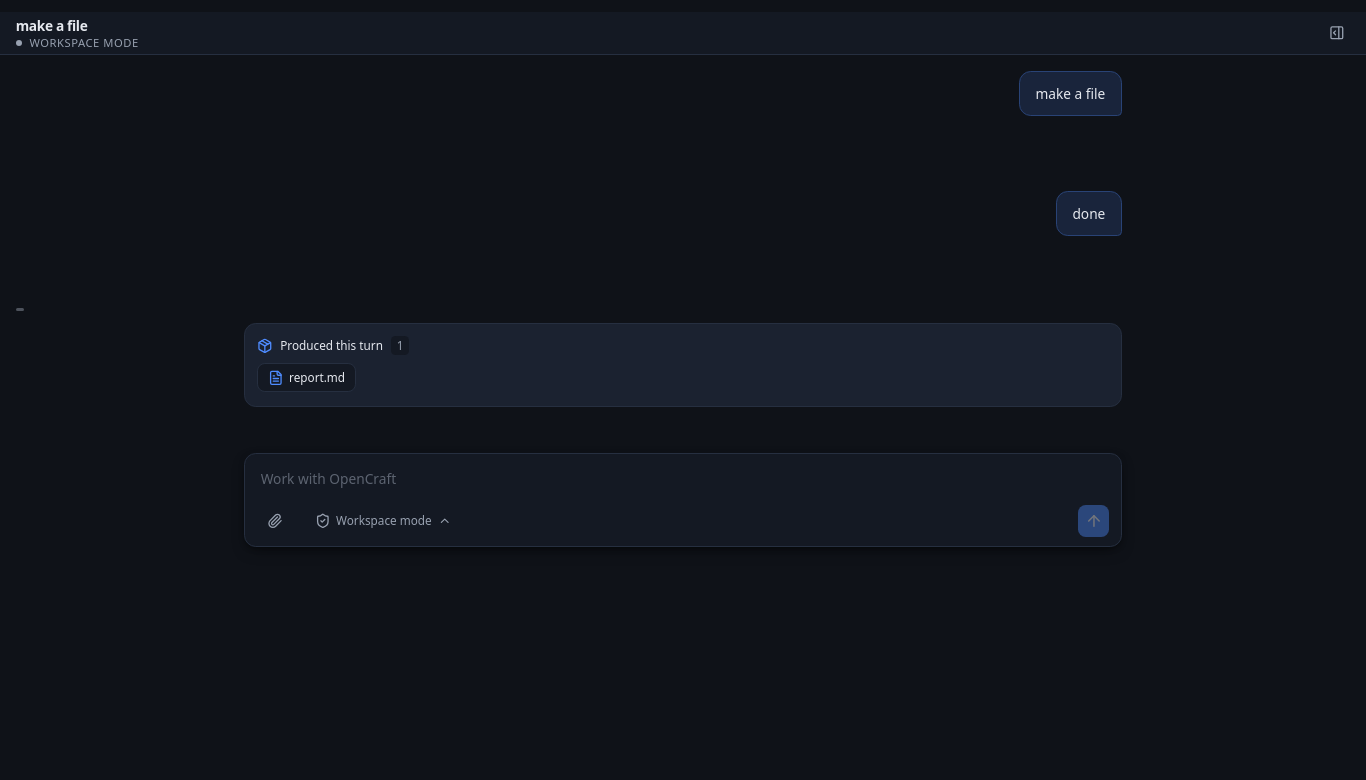
Test: ChatView transcript windowing › opens a right-click menu on turn artifacts
Step 1. Right-click the button "report.md" → point(306, 378), box [257,363,356,392]
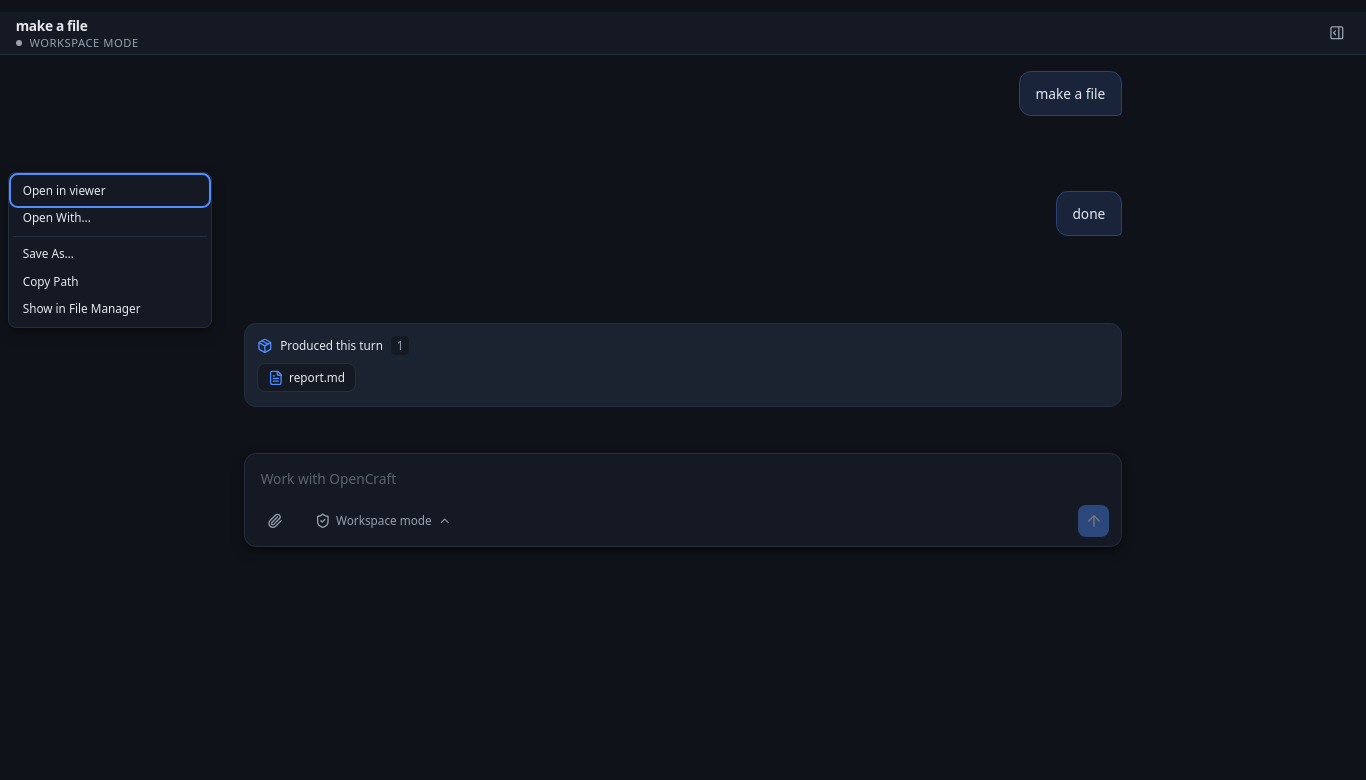
Expected: the menu item "Save As…" is shown
Expected: the menu item "Copy Path" is shown, [13,268,207,295]
Expected: the menu item "Show in File Manager" is shown, [13,296,207,323]
Step 2. Click the menu item "Save As…" → point(110, 254), box [13,241,207,268]
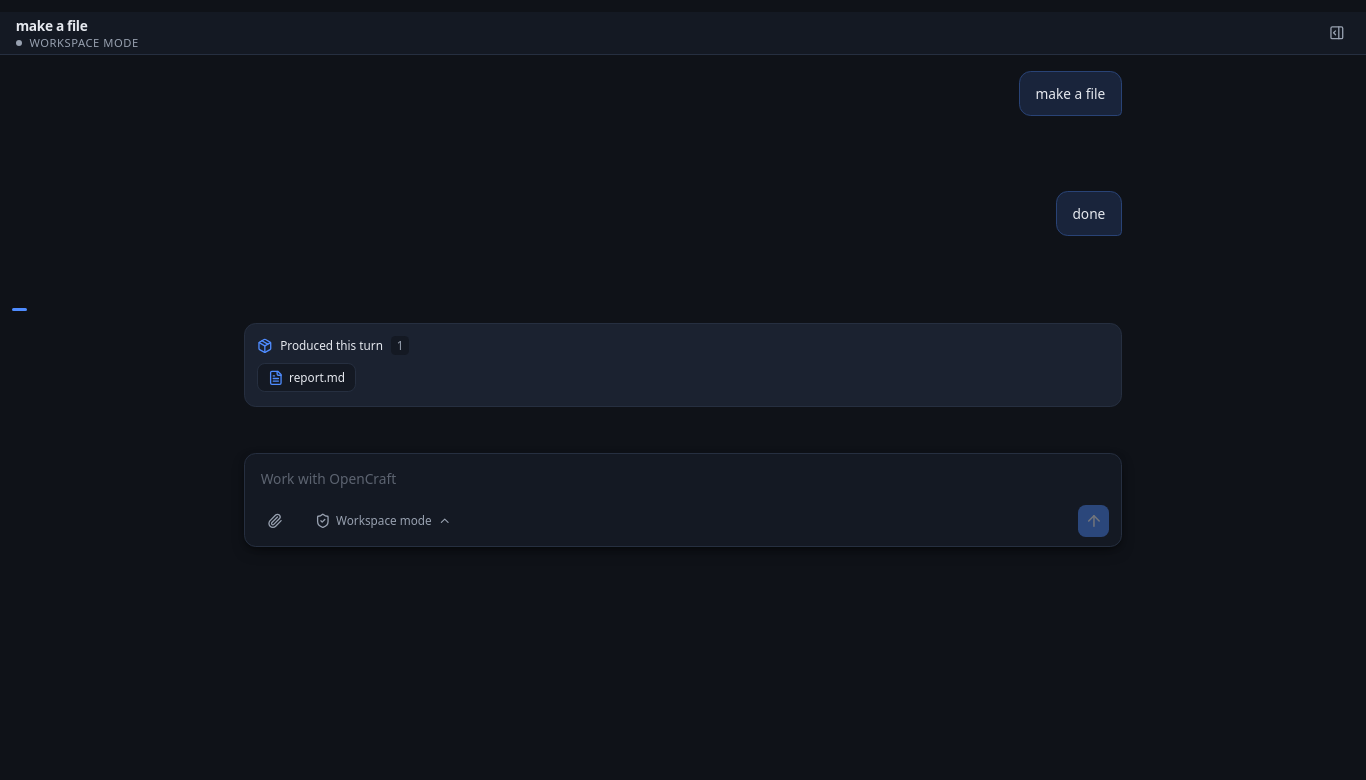
Expected: the menu item "Save As…" is gone
